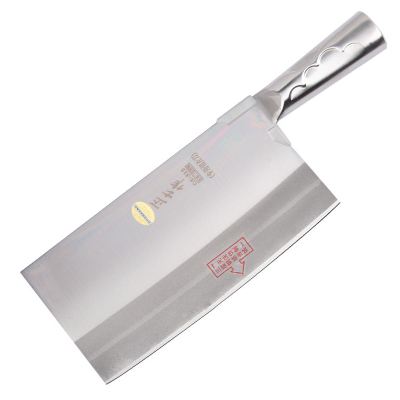knief: (80, 14, 384, 383)
